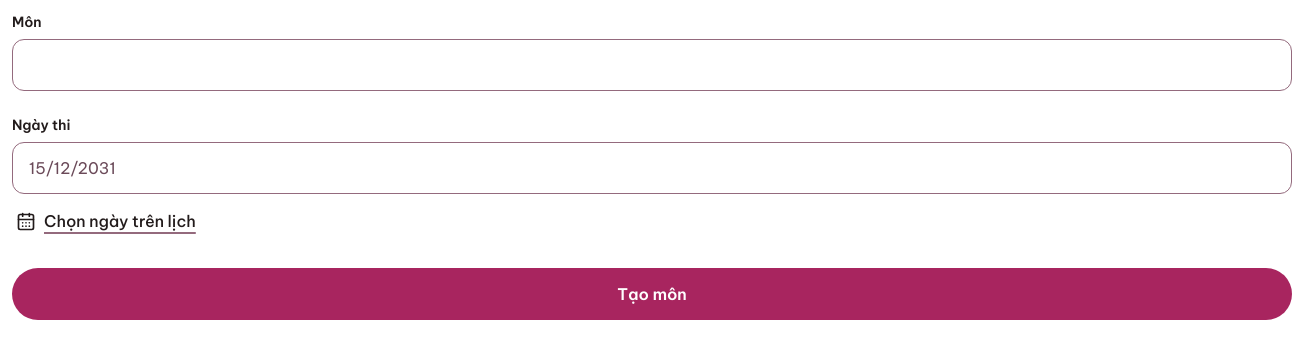
Test: NewSubjectForm (US-01 AC1, AC2, AC7) › US-01 AC2: core-api's exam_date_not_in_future shows DESIGN's sentence under the date
Type "Mạng" into the field labelled "Môn" at x=652, y=65, box [12,39,1292,91]
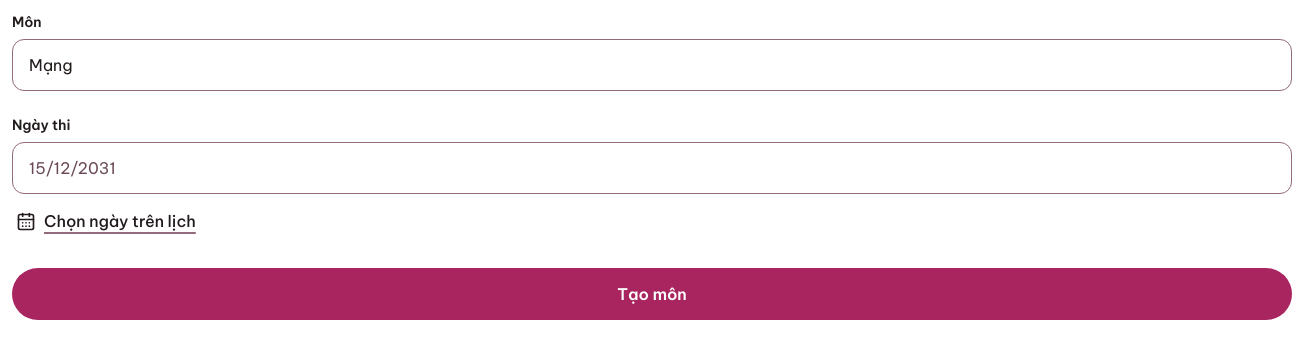
Type "02/10/2026" into the field labelled "Ngày thi" at x=652, y=168, box [12,142,1292,194]
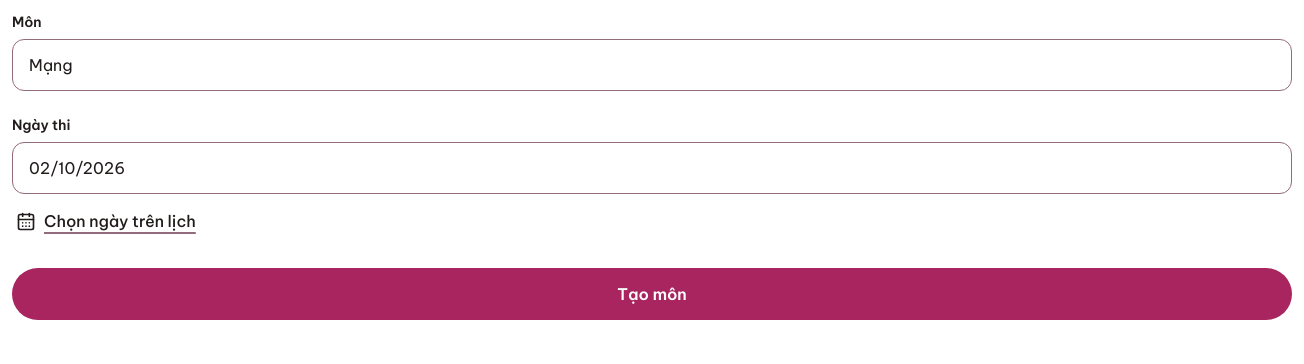
Click the button "Tạo môn" at x=652, y=294, box [12,268,1292,320]
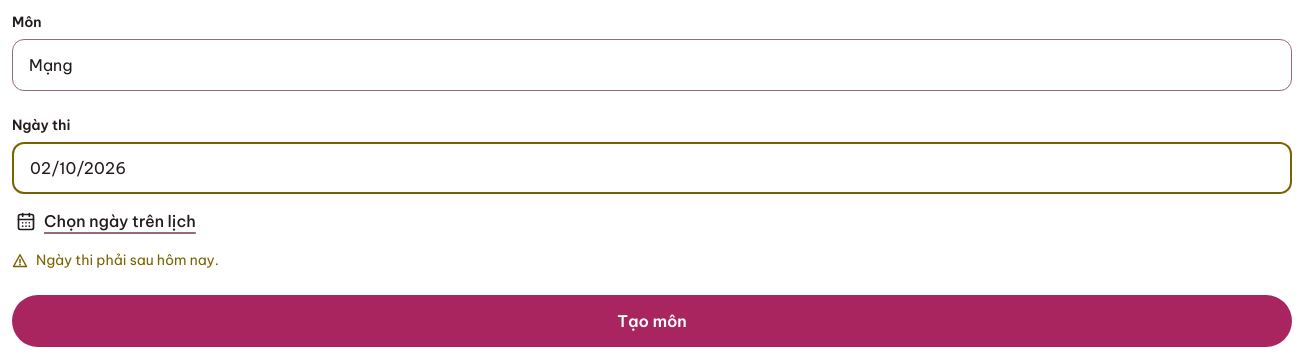
Now the text "Ngày thi phải sau hôm nay." is shown, box [36,250,219,271]
